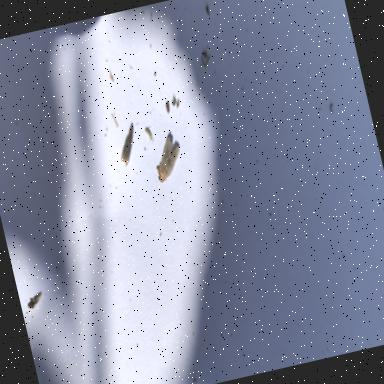pbw: (150, 134, 187, 184)
